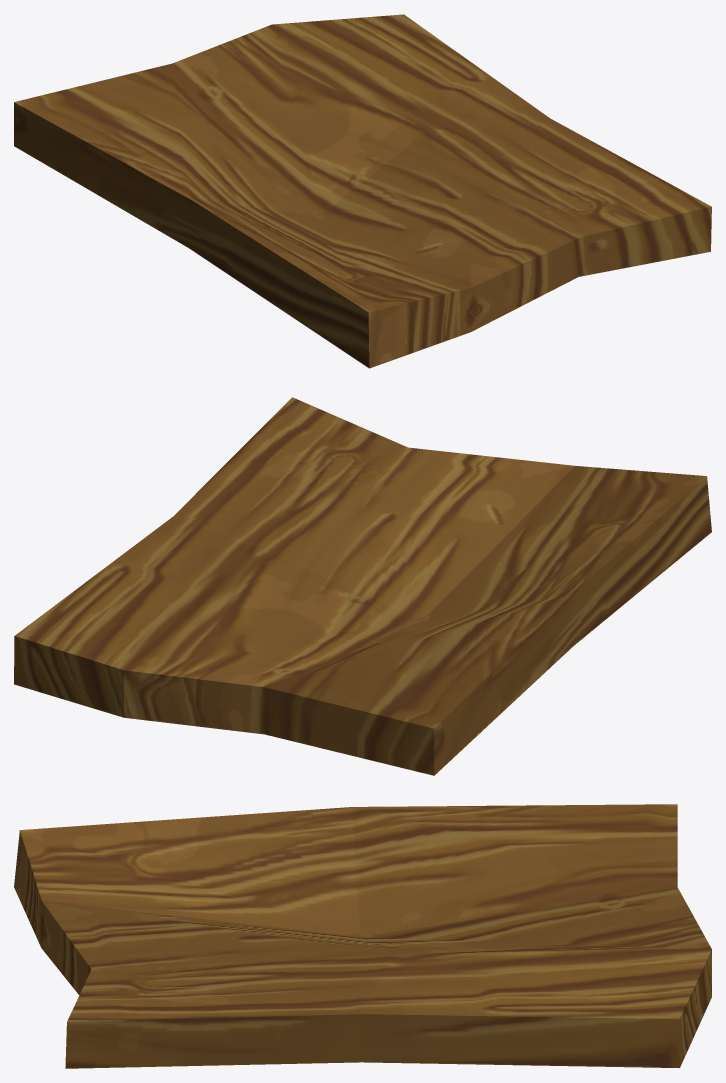
Rendered from plank_1.5x2.glb.
The picture shows the model from 3 angles, top to bottom: view 1: azimuth 30°, elevation 25°; view 2: azimuth 150°, elevation 25°; view 3: azimuth 270°, elevation 25°; orthographic projection. The views are drawn at different scales.
Visible parts, largest first — view 1: PLanks_square_medium.002; view 2: PLanks_square_medium.002; view 3: PLanks_square_medium.002.
Part boxes in pixels (left/top/right/bottom): PLanks_square_medium.002: left=14, top=14, right=711, bottom=368; PLanks_square_medium.002: left=14, top=397, right=711, bottom=775; PLanks_square_medium.002: left=14, top=804, right=711, bottom=1068.
Size of the model in its own units: 1.63 by 0.2364 by 2.2.
Materials: 1 (1 with a texture image).
